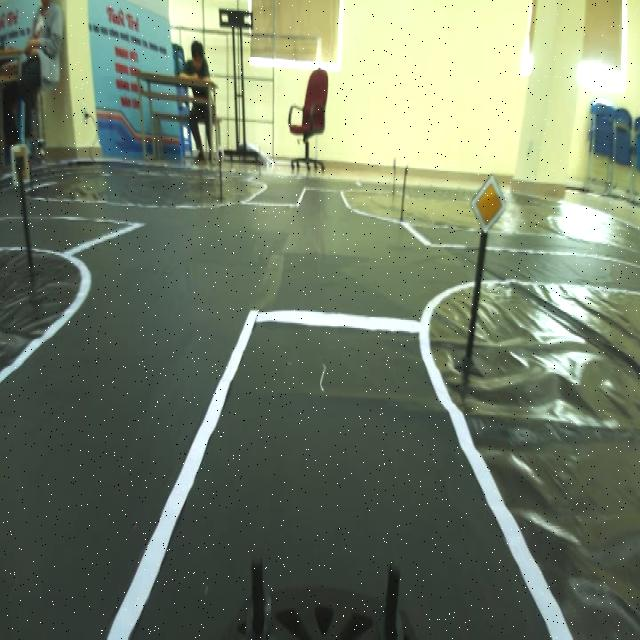priority: (468, 166, 508, 241)
